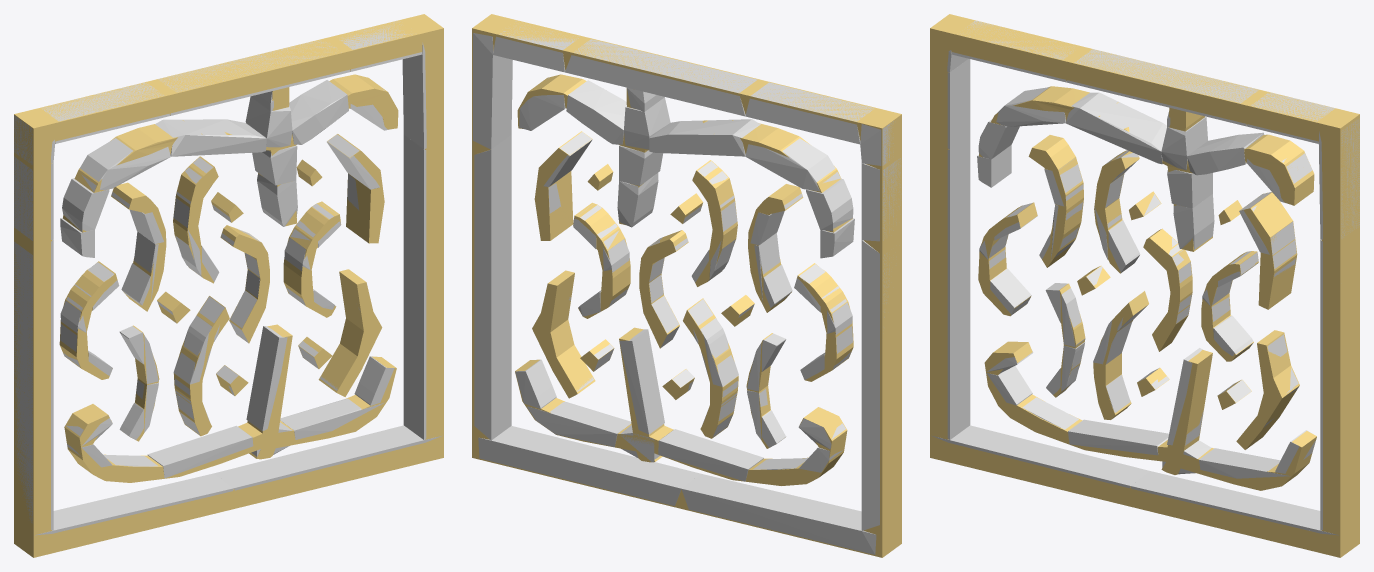
Rendered from Maze_planar_env1.dae.
3 views of the same model, side by side, from view 1: azimuth 30°, elevation 25°; view 2: azimuth 150°, elevation 25°; view 3: azimuth 330°, elevation 25° (orthographic).
Parts seen in each view (by area): view 1: instance_0.001, instance_0.001_hull_6, instance_0, instance_0.001_hull_3, instance_0.001_hull_2, instance_0.001_hull_1, instance_0.007, instance_0.001_hull_16, instance_0_hull_2, instance_0_hull_6, instance_0.001_hull_20, instance_0.009 (+34 smaller); view 2: instance_0.001, instance_0.001_hull_6, instance_0.001_hull_2, instance_0.001_hull_1, instance_0.001_hull_18, instance_0.001_hull_3, instance_0, instance_0.001_hull_9, instance_0.001_hull_11, instance_0.007, instance_0.001_hull_16, instance_0_hull_6 (+38 smaller); view 3: instance_0.001, instance_0, instance_0.001_hull_3, instance_0.001_hull_1, instance_0.001_hull_2, instance_0.001_hull_16, instance_0.001_hull_18, instance_0.014, instance_0.007, instance_0.011, instance_0.008, instance_0_hull_2 (+31 smaller).
Part boxes in pixels (x1,y1,x2,y2): instance_0.001: (14,14,443,557); instance_0.001_hull_6: (403,135,426,439); instance_0: (64,324,396,482); instance_0.001_hull_3: (14,239,53,530); instance_0.001_hull_2: (214,425,442,490); instance_0.001_hull_1: (35,473,233,535); instance_0.007: (318,269,382,396); instance_0.001_hull_16: (155,119,266,156); instance_0_hull_2: (147,425,253,478); instance_0_hull_6: (246,326,287,431); instance_0.001_hull_20: (289,80,348,144); instance_0.009: (283,201,341,317); instance_0.001: (472,14,901,557); instance_0.001_hull_6: (474,135,511,440); instance_0.001_hull_2: (478,426,701,505); instance_0.001_hull_1: (681,474,876,554); instance_0.001_hull_18: (565,39,757,116); instance_0.001_hull_3: (861,240,889,530); instance_0: (515,327,847,485); instance_0.001_hull_9: (745,82,873,144); instance_0.001_hull_11: (473,33,512,149); instance_0.007: (532,270,595,398); instance_0.001_hull_16: (649,119,760,156); instance_0_hull_6: (619,329,664,434); instance_0.001: (930,14,1359,557); instance_0: (984,341,1316,490); instance_0.001_hull_3: (947,135,970,439); instance_0.001_hull_1: (931,425,1150,488); instance_0.001_hull_2: (1130,471,1338,535); instance_0.001_hull_16: (1065,92,1166,164); instance_0.001_hull_18: (1066,49,1258,126); instance_0.014: (1239,192,1297,309); instance_0.007: (1236,330,1299,449); instance_0.011: (1028,135,1083,267); instance_0.008: (1143,228,1192,351); instance_0_hull_2: (1068,419,1168,455).
Bounding box in the file's own units: 110 × 11.01 × 110.
